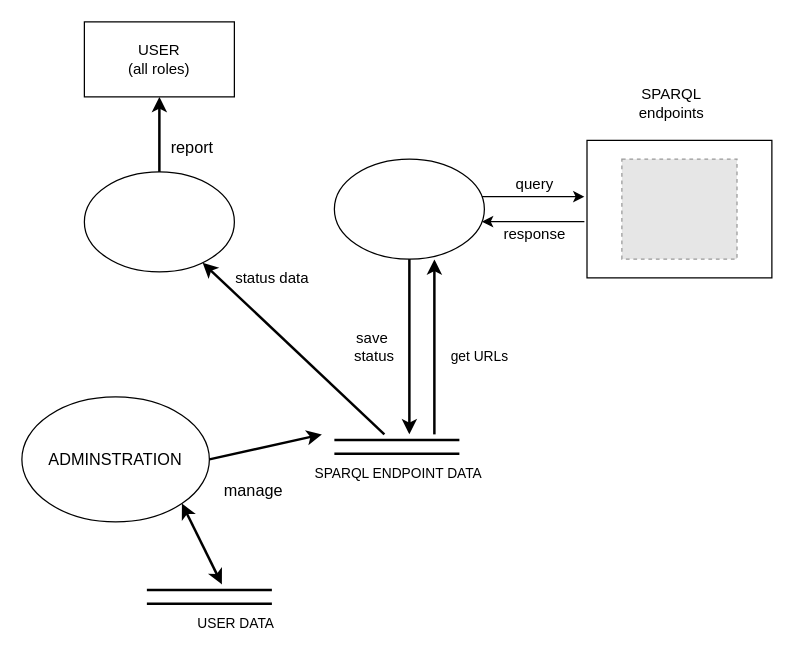
The diagram is 794 pixels wide and 653 high, and some of its shapes have lost their labels. Grey dashed boxes stand in for pictures. Each missing label, with the centre of its shape:
"SPARQL E. CHECKER" goes at pixel 408 208.
"SPARQL E. STATUS REPORTING" goes at pixel 158 221.
